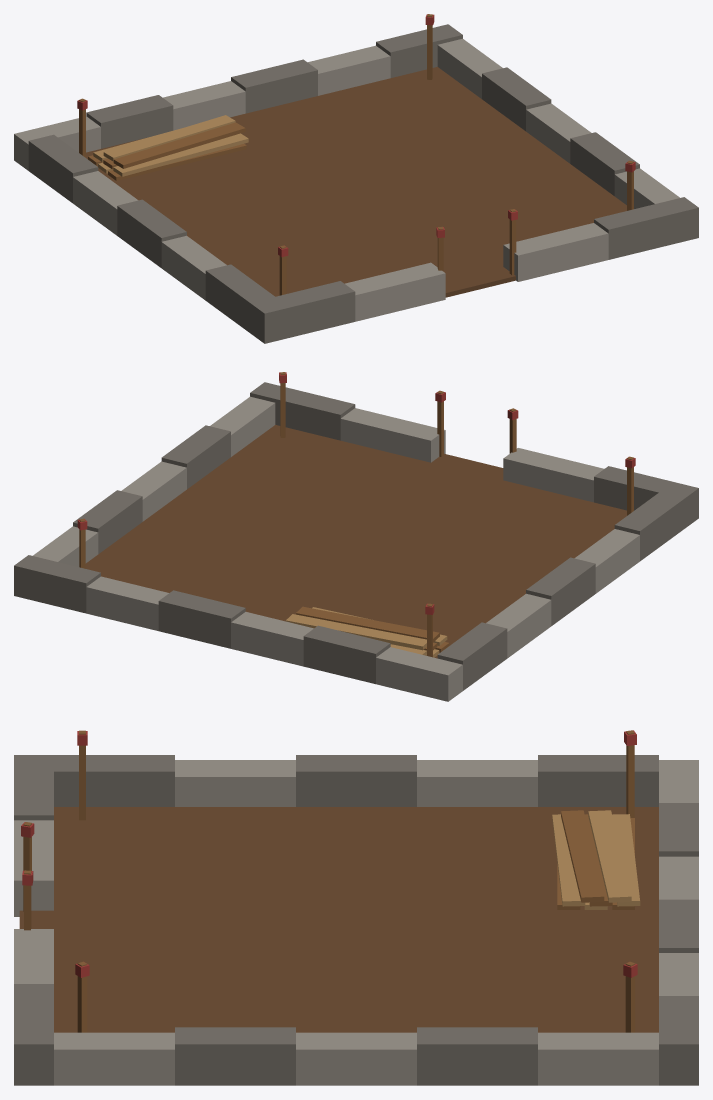
File: site_6x6_1.glb
3 renders of one model, top to bottom at view 1: azimuth 30°, elevation 25°; view 2: azimuth 150°, elevation 25°; view 3: azimuth 270°, elevation 25°, orthographic. The views are drawn at different scales.
Visible parts, largest first — view 1: site_6x6_1; view 2: site_6x6_1; view 3: site_6x6_1.
Part boxes in pixels (<box>): site_6x6_1: <box>14,14,698,343</box>; site_6x6_1: <box>14,372,698,701</box>; site_6x6_1: <box>14,730,698,1085</box>.
Size of the model in its own units: 6 by 0.9 by 6.
